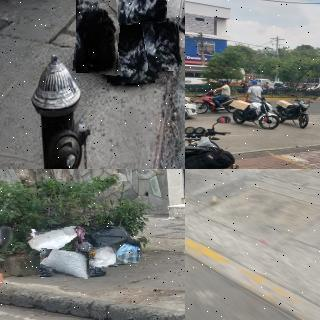Garbage: (74, 0, 120, 74), (105, 24, 157, 85), (144, 18, 181, 72), (40, 250, 91, 278), (26, 228, 77, 253), (115, 0, 166, 23), (90, 224, 131, 248), (89, 246, 119, 268), (116, 243, 140, 263)
